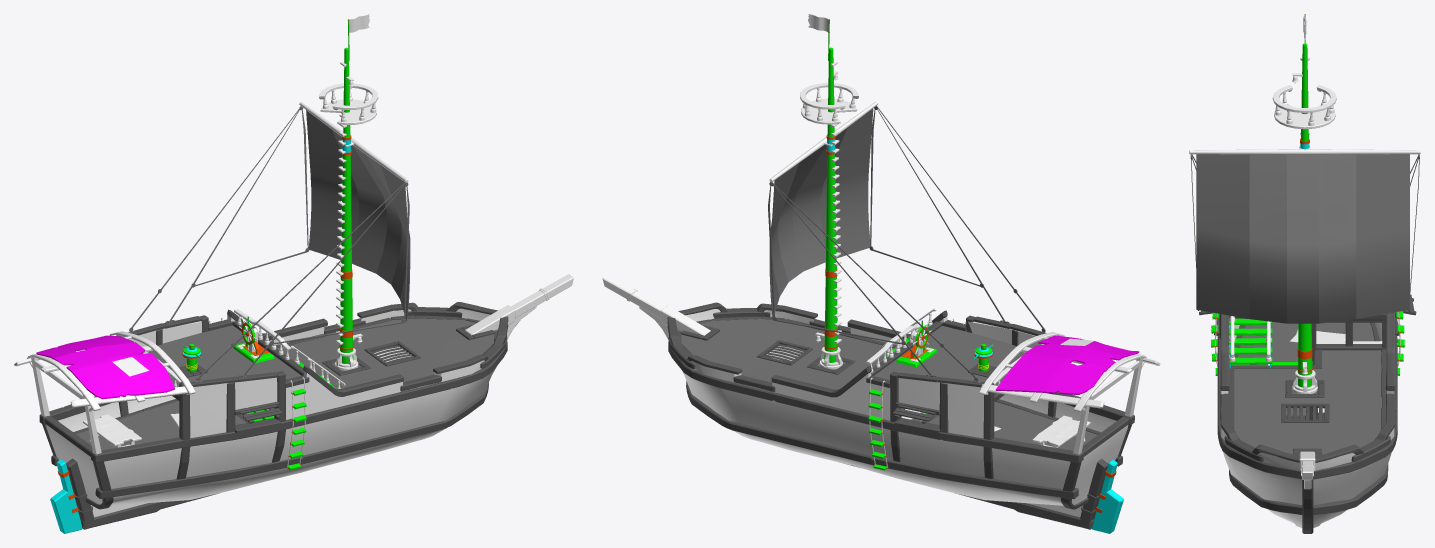
File: Sloop_Painter.fbx
3 views of the same model, side by side, from view 1: azimuth 30°, elevation 25°; view 2: azimuth 150°, elevation 25°; view 3: azimuth 270°, elevation 25° (orthographic). The views are drawn at different scales.
Visible parts, largest first — view 1: hull, sail, decks, cloth, sidewood1, wheel_deck, sidewood3, mast_pole, bottomwood1, front_beam, rear_rudder, rope1 (+7 smaller); view 2: hull, sail, decks, cloth, sidewood2, sidewood4, wheel_deck, mast_pole, bottomwood1, front_beam, rear_rudder, rope7 (+8 smaller); view 3: sail, decks, hull, mast_pole, sail_support, sidewood1, sidewood2, sidewood4, nest_base, sidewood3, trimwood15, trimwood23 (+14 smaller).
Part boxes in pixels (x1=…): hull: x1=46, y1=308, x2=496, y2=505; sail: x1=306, y1=110, x2=410, y2=320; decks: x1=76, y1=316, x2=497, y2=450; cloth: x1=36, y1=335, x2=174, y2=399; sidewood1: x1=91, y1=337, x2=507, y2=462; wheel_deck: x1=147, y1=325, x2=301, y2=386; sidewood3: x1=95, y1=383, x2=488, y2=498; mast_pole: x1=339, y1=47, x2=353, y2=363; bottomwood1: x1=66, y1=325, x2=508, y2=529; front_beam: x1=465, y1=274, x2=573, y2=335; rear_rudder: x1=50, y1=459, x2=82, y2=533; rope1: x1=243, y1=186, x2=409, y2=375; hull: x1=681, y1=309, x2=1128, y2=505; sail: x1=769, y1=108, x2=873, y2=318; decks: x1=677, y1=317, x2=1097, y2=450; cloth: x1=995, y1=335, x2=1139, y2=394; sidewood2: x1=668, y1=335, x2=1083, y2=462; sidewood4: x1=686, y1=381, x2=1078, y2=498; wheel_deck: x1=874, y1=326, x2=1025, y2=385; mast_pole: x1=824, y1=47, x2=837, y2=362; bottomwood1: x1=667, y1=326, x2=1107, y2=529; front_beam: x1=602, y1=274, x2=710, y2=335; rear_rudder: x1=1092, y1=460, x2=1123, y2=533; rope7: x1=768, y1=185, x2=931, y2=375; sail: x1=1196, y1=154, x2=1409, y2=323; decks: x1=1234, y1=322, x2=1381, y2=454; hull: x1=1221, y1=322, x2=1394, y2=527; mast_pole: x1=1297, y1=43, x2=1312, y2=387; sail_support: x1=1189, y1=146, x2=1420, y2=154; sidewood1: x1=1217, y1=335, x2=1301, y2=479; sidewood2: x1=1313, y1=335, x2=1397, y2=479; sidewood4: x1=1313, y1=464, x2=1388, y2=515; nest_base: x1=1274, y1=104, x2=1335, y2=129; sidewood3: x1=1229, y1=469, x2=1302, y2=514; trimwood15: x1=1220, y1=314, x2=1229, y2=390; trimwood23: x1=1252, y1=444, x2=1364, y2=462.
Bounding box in the file's own units: 19.65 × 15.83 × 6.85.
